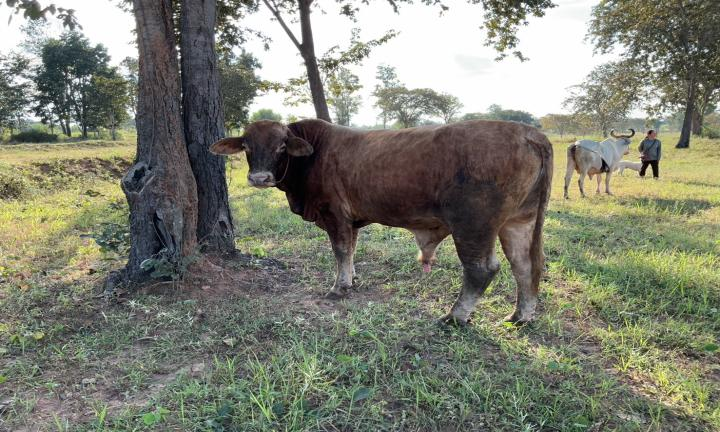Charolais: (210, 119, 553, 323)
